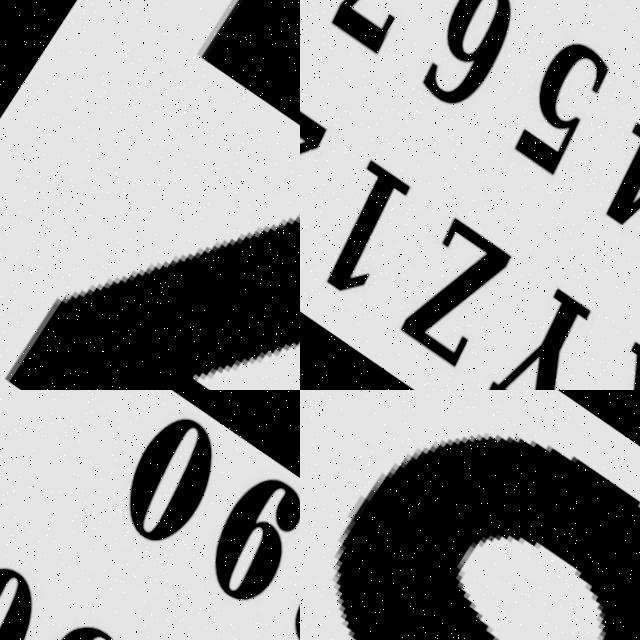0: (79, 390, 253, 575)
1: (300, 141, 435, 310)
2: (300, 77, 355, 260)
4: (565, 71, 640, 250)
5: (478, 19, 640, 195), (0, 596, 153, 640)
6: (367, 0, 556, 156), (0, 537, 73, 640)
7: (300, 0, 462, 88)
8: (251, 502, 300, 640)
9: (164, 449, 300, 640)
S: (300, 390, 640, 640)
Z: (0, 0, 300, 390)
